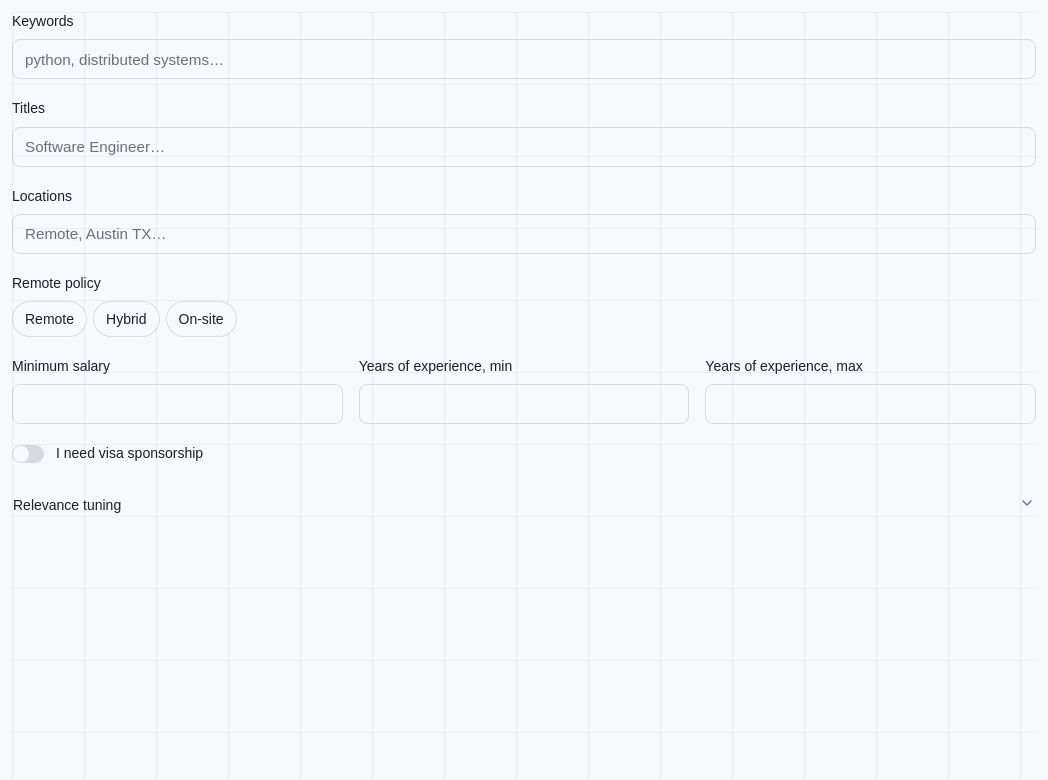
SearchConfigForm › normalizes a newly added location once the server responds
Type "austin tx" into the field labelled "Locations" at (524, 234), box [12,214,1036,254]
Then press Enter
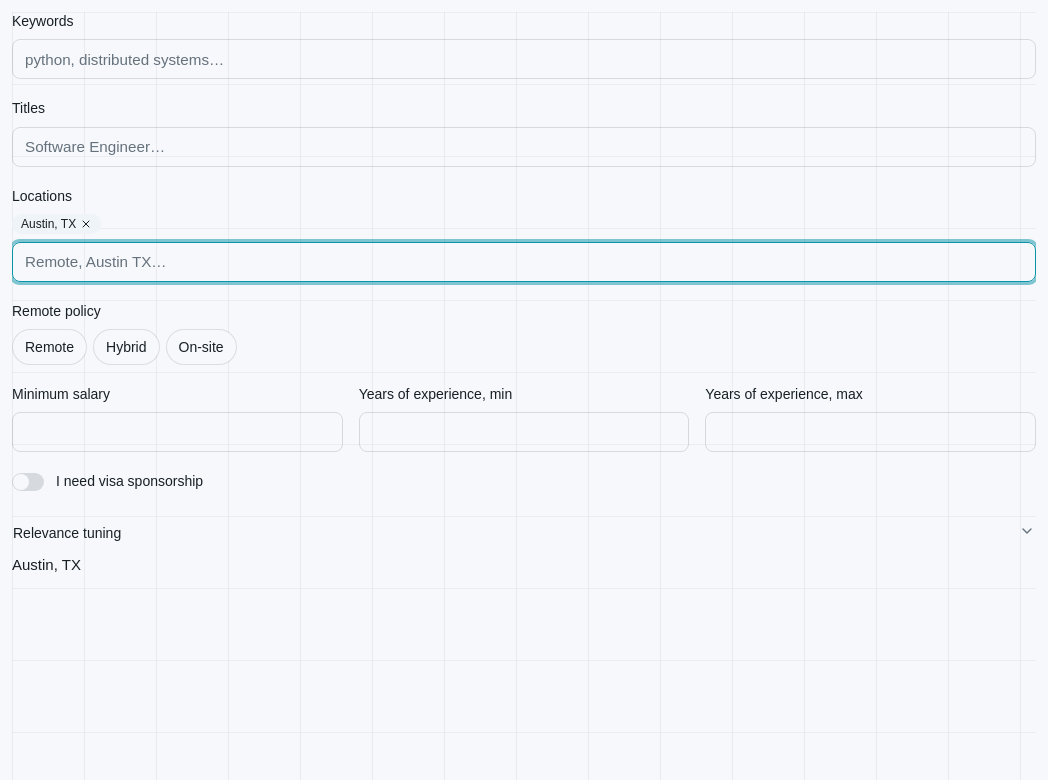
Check: the text with test id "locations" reads "Austin, TX", box [12,556,81,572]
